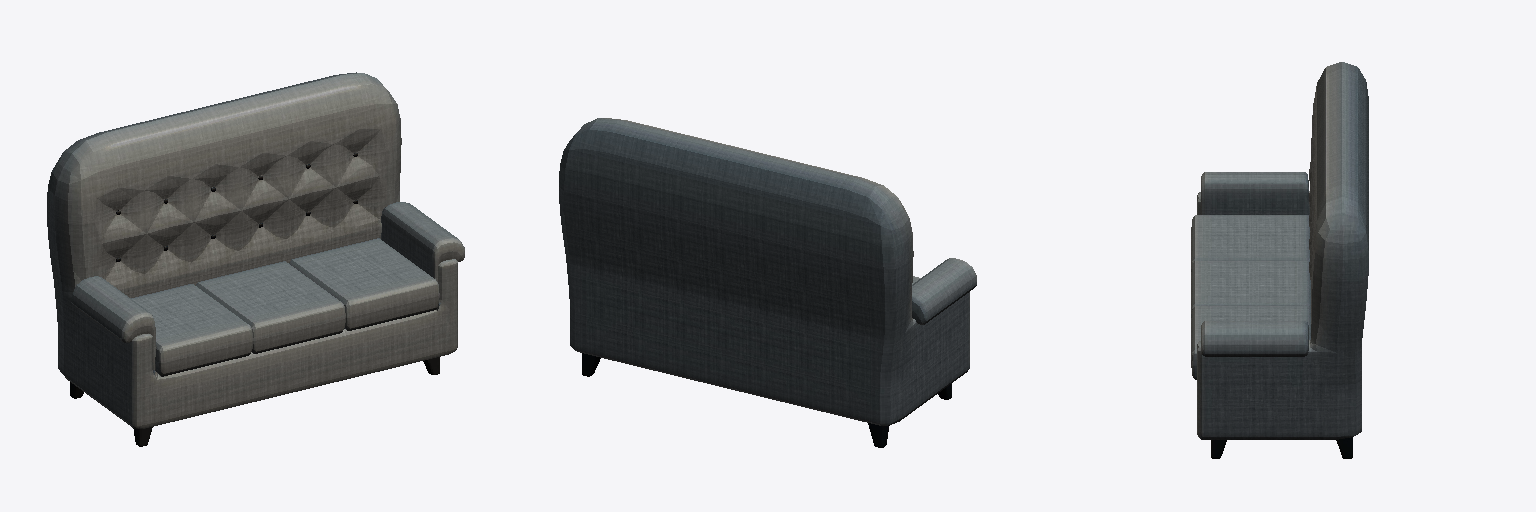
3 views of the same model, side by side, from view 1: azimuth 30°, elevation 25°; view 2: azimuth 150°, elevation 25°; view 3: azimuth 270°, elevation 25° (orthographic).
Bounding box in the file's own units: 3.59 × 2.59 × 1.61.
1 materials, 1 textured.